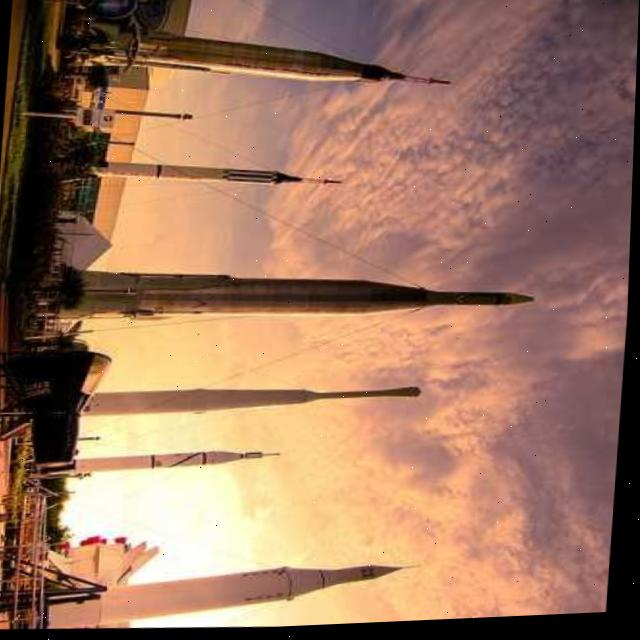missile: (43, 249, 542, 339), (47, 546, 434, 638), (97, 17, 461, 109), (80, 375, 426, 431), (93, 148, 349, 200), (52, 442, 289, 489)
